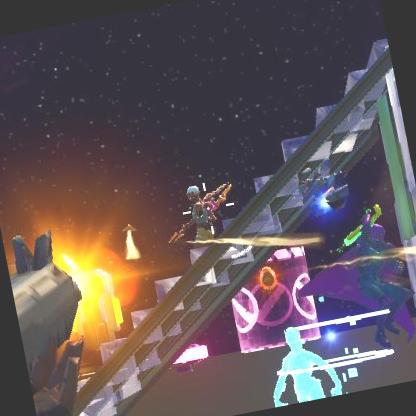person: (343, 226, 407, 336), (270, 321, 340, 405), (180, 181, 218, 242)
